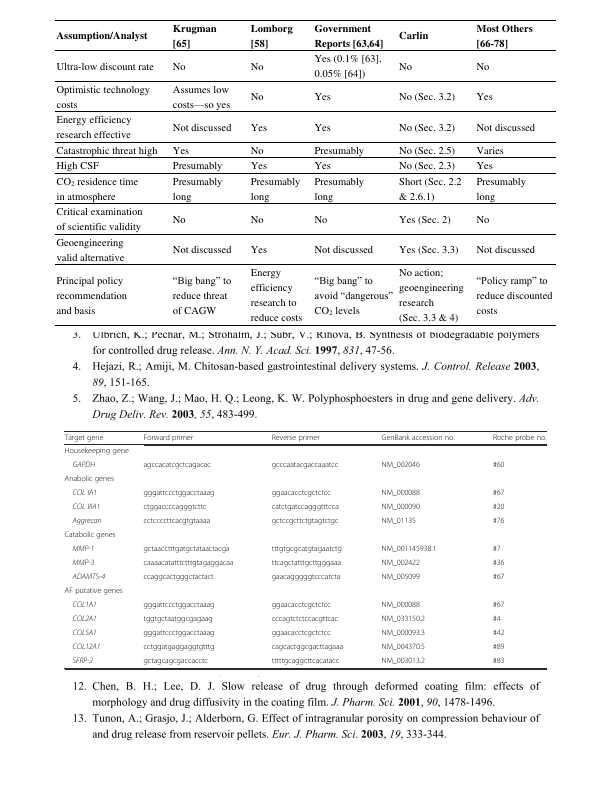borderless: (55, 18, 556, 325), (63, 429, 546, 668)
cell: (398, 266, 465, 325), (314, 272, 394, 318), (475, 272, 554, 317), (55, 274, 128, 317), (250, 266, 303, 325), (172, 272, 232, 317), (55, 83, 151, 111), (55, 205, 144, 234), (55, 175, 139, 203), (55, 113, 132, 142), (314, 21, 384, 50), (314, 52, 383, 81), (55, 236, 125, 264), (398, 175, 463, 203), (475, 21, 534, 50), (172, 83, 231, 112), (475, 175, 527, 203), (172, 175, 223, 203), (250, 175, 301, 203), (314, 175, 365, 203), (55, 144, 158, 157), (172, 21, 218, 50), (55, 29, 148, 43), (55, 60, 155, 73), (250, 21, 294, 50), (142, 558, 234, 568), (142, 544, 231, 554), (398, 243, 460, 257), (475, 243, 536, 257), (172, 243, 232, 257), (314, 243, 374, 257), (398, 90, 456, 104), (398, 159, 456, 173), (475, 121, 536, 134), (172, 121, 232, 134), (398, 121, 456, 134), (398, 144, 456, 157), (142, 488, 215, 498), (142, 600, 215, 610), (142, 628, 215, 638), (142, 642, 215, 652), (271, 642, 344, 652), (271, 544, 343, 554), (142, 572, 214, 582), (142, 614, 214, 624), (172, 159, 223, 173), (271, 558, 342, 568), (398, 213, 452, 226), (142, 460, 212, 470), (271, 572, 341, 582), (271, 502, 340, 512), (142, 516, 211, 526), (271, 656, 340, 666), (271, 460, 339, 470), (271, 516, 339, 526), (271, 614, 339, 624), (381, 433, 456, 442), (142, 656, 209, 666), (314, 144, 365, 157), (64, 446, 130, 456), (142, 502, 207, 512), (55, 159, 100, 173), (271, 488, 332, 498), (63, 586, 124, 596), (271, 600, 332, 610), (271, 628, 332, 638), (381, 544, 437, 554), (64, 530, 116, 540), (64, 474, 115, 484), (492, 433, 547, 442), (142, 433, 194, 442), (381, 614, 426, 624), (381, 628, 426, 638), (381, 642, 426, 652), (381, 656, 426, 666), (271, 433, 320, 442), (398, 29, 429, 43), (381, 460, 421, 470), (381, 488, 421, 498), (381, 502, 421, 512), (381, 558, 421, 568), (381, 572, 421, 582), (381, 600, 421, 610), (475, 144, 505, 157), (64, 433, 104, 442), (381, 516, 417, 526), (71, 572, 106, 581), (71, 516, 102, 526), (71, 502, 101, 512), (71, 488, 98, 498), (71, 642, 101, 651), (475, 90, 494, 104), (475, 159, 494, 173), (314, 90, 332, 104), (250, 159, 268, 173), (314, 159, 332, 173), (250, 243, 268, 257), (71, 460, 96, 470), (71, 600, 98, 609), (71, 614, 98, 623), (71, 628, 98, 637), (250, 121, 268, 134), (314, 121, 332, 134), (172, 144, 190, 157), (71, 544, 95, 553), (71, 558, 95, 567), (250, 90, 265, 104), (71, 656, 94, 665), (172, 60, 187, 73), (250, 60, 265, 73), (398, 60, 413, 73), (475, 60, 490, 73), (250, 144, 265, 157), (172, 213, 187, 226), (250, 213, 265, 226), (475, 213, 490, 226), (314, 213, 328, 226), (492, 460, 505, 470), (492, 488, 505, 498), (492, 502, 505, 512), (492, 516, 505, 526), (492, 558, 505, 568), (492, 572, 505, 582), (492, 600, 505, 610), (492, 628, 505, 638), (492, 642, 505, 652), (492, 656, 505, 666), (492, 544, 501, 554), (492, 614, 501, 624)
